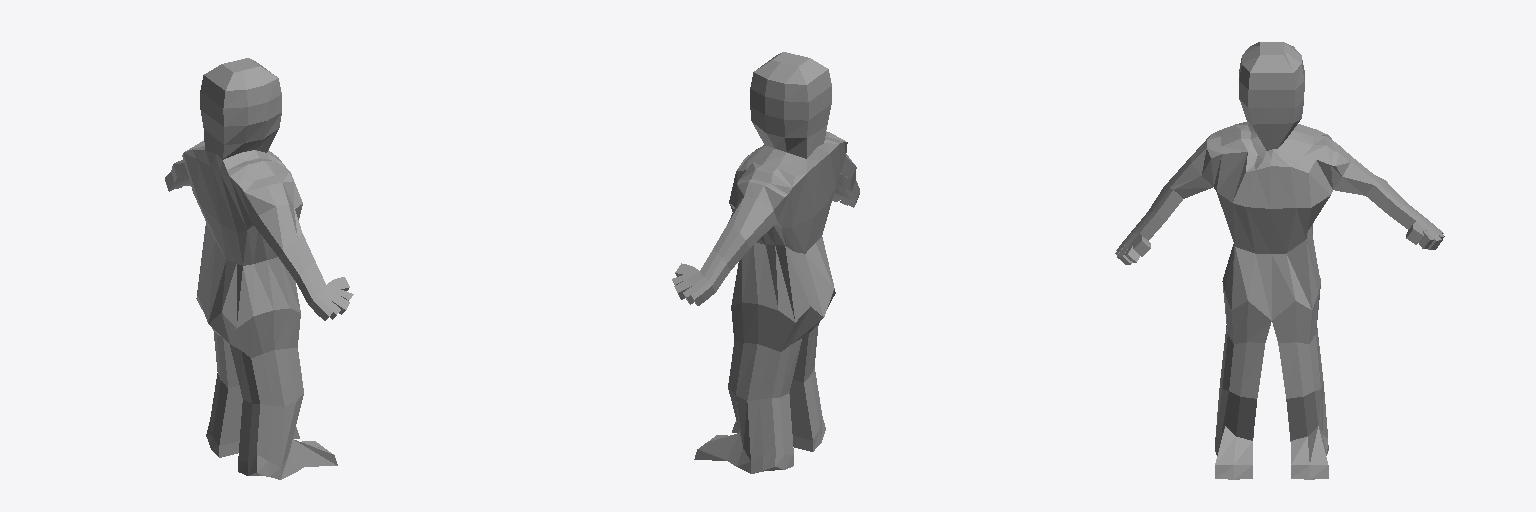
The model's file is BlockHumanT.obj.
The picture shows the model from 3 angles: view 1: azimuth 30°, elevation 25°; view 2: azimuth 150°, elevation 25°; view 3: azimuth 270°, elevation 25°; orthographic projection.
Parts seen in each view (by area): view 1: Cube; view 2: Cube; view 3: Cube.
Boxes of the visible parts, x1,y1,x2,y2 form: Cube: [165, 58, 353, 479]; Cube: [672, 52, 859, 473]; Cube: [1115, 42, 1444, 479].
Size of the model in its own units: 3.65 by 13.33 by 10.04.